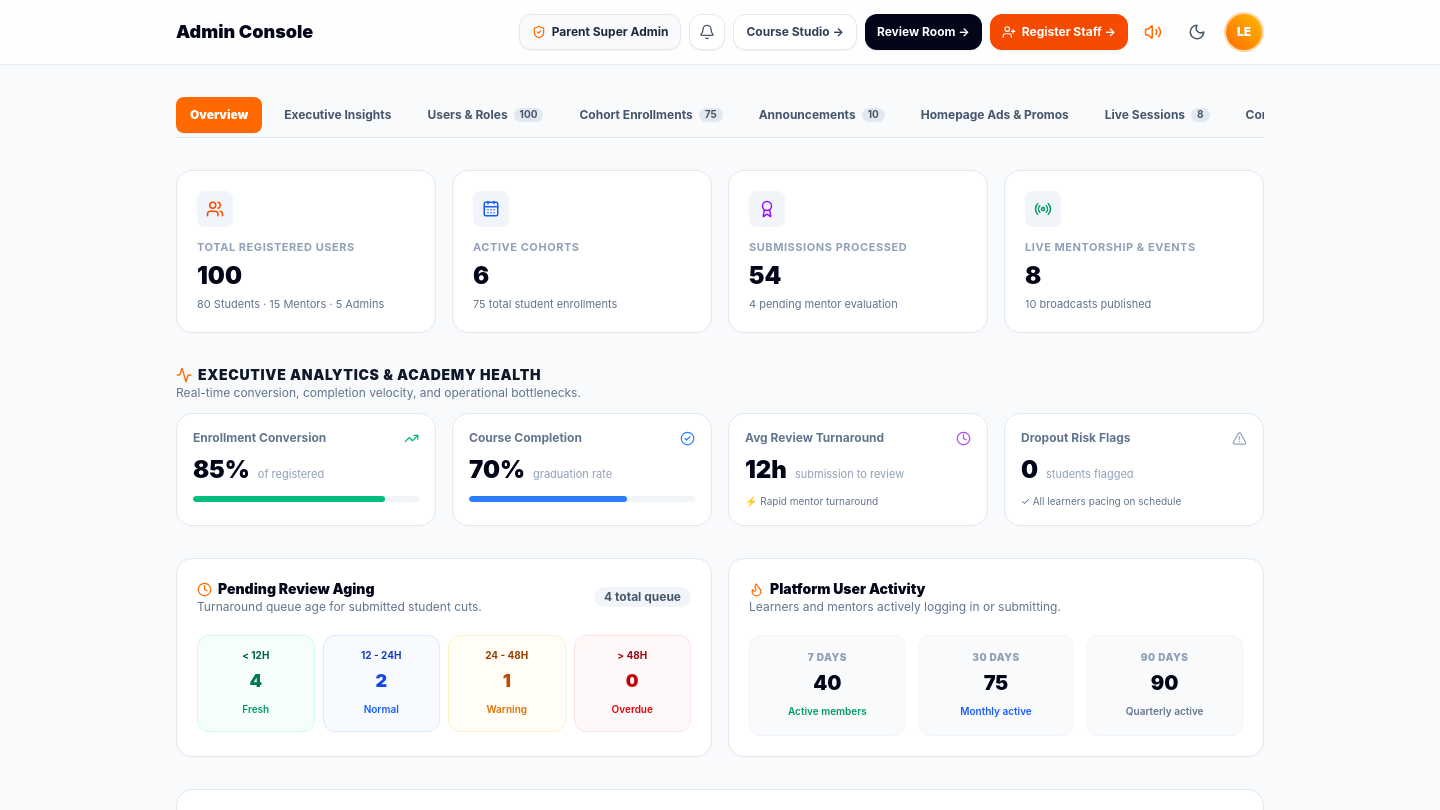
Test: Course Demand & Enrollment Distribution Visual Report UI › filters courses by search query
Click the button "Executive Insights" at (338, 115), box [270,97,405,133]
(page scrolled)
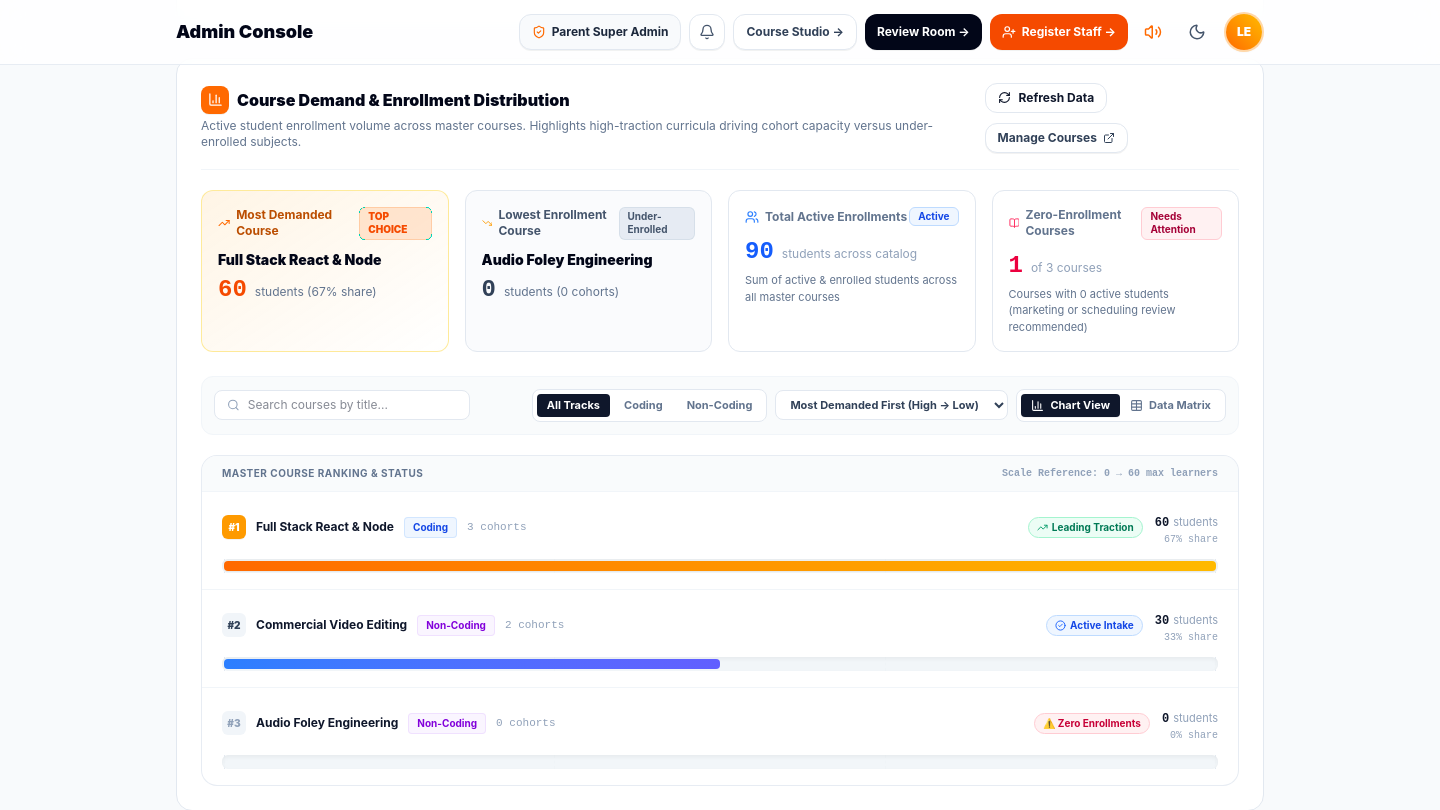
Expected: the heading "Course Demand & Enrollment Distribution" is shown, [237,88,570,112]
Type "Foley" into the field with placeholder "Search courses by title..." at (352, 406), box [248,398,457,414]
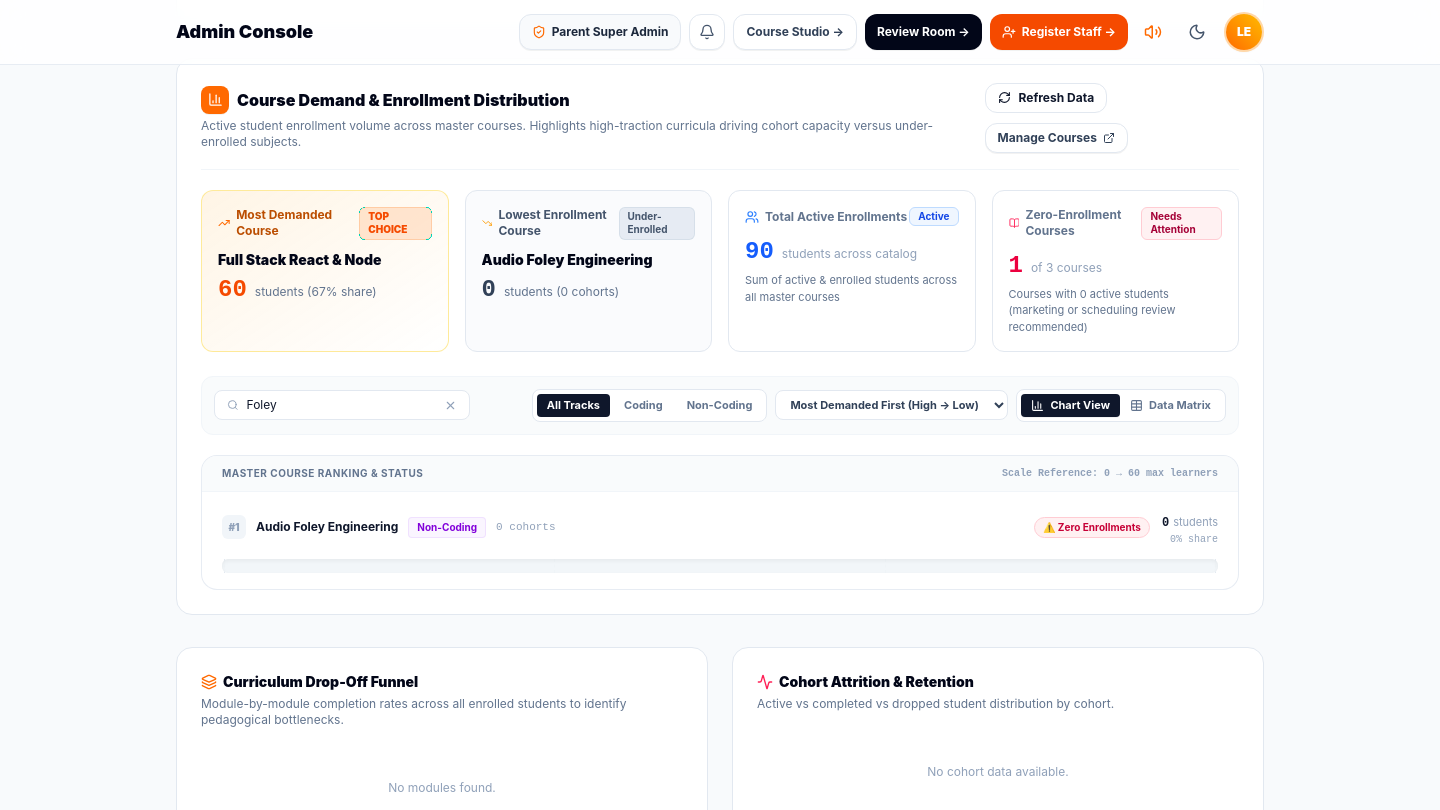
Expected: the text "Commercial Video Editing" is gone
Clear search
Click the button named "Clear search" at (450, 406), box [444,399,457,412]
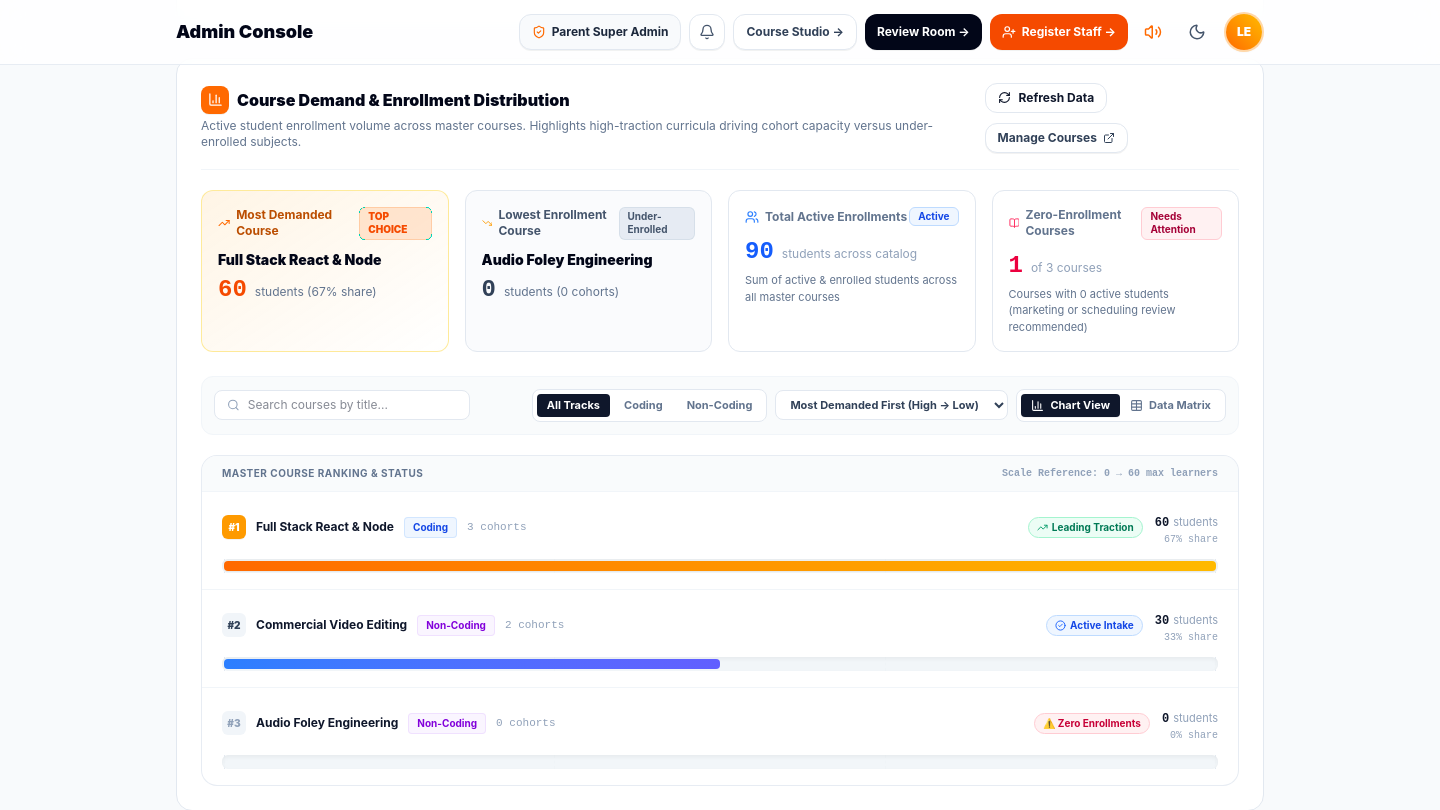
Expected: the text "Commercial Video Editing" is shown, [256,617,407,633]
